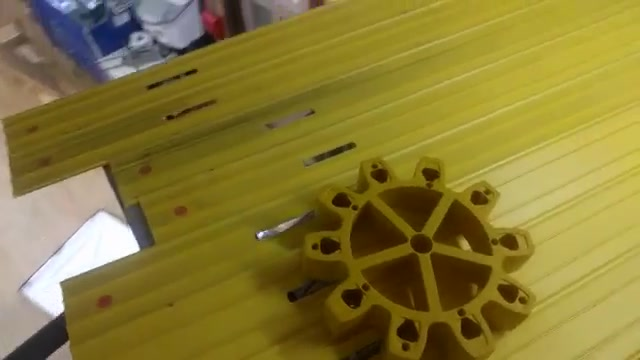gear: (295, 141, 538, 360)
